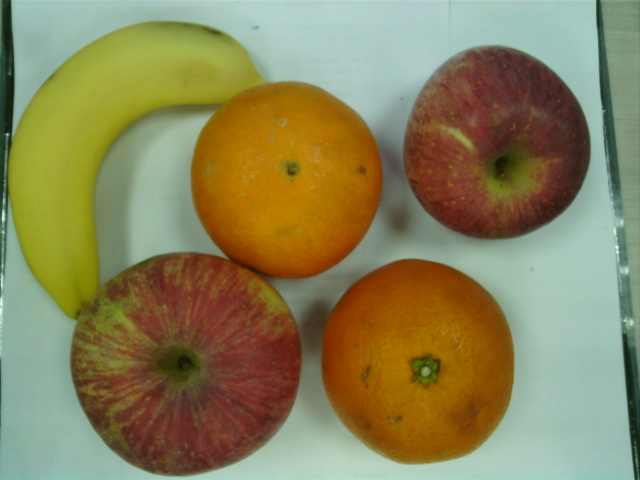normal_apple: (72, 253, 302, 474), (405, 44, 591, 239)
normal_banana: (11, 22, 263, 315)
normal_orange: (321, 258, 516, 464), (193, 81, 381, 277)
